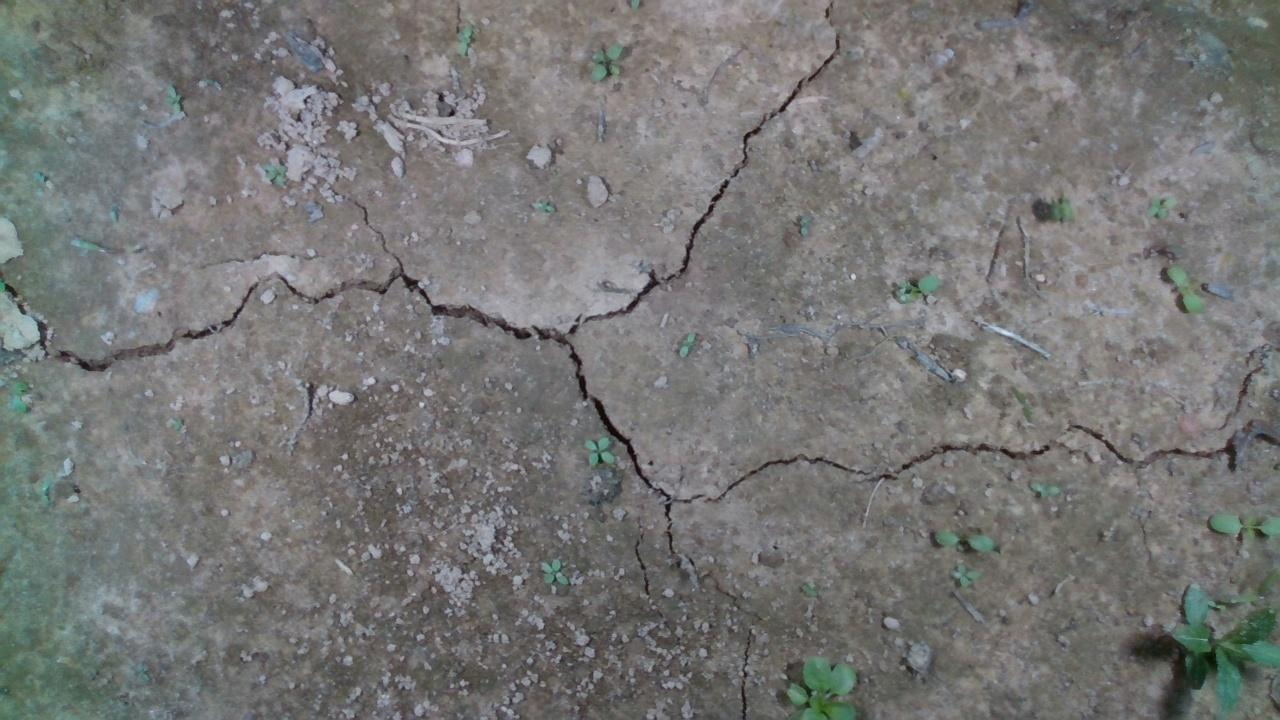weed: (884, 266, 956, 312), (579, 31, 629, 78), (1163, 265, 1204, 313), (1015, 470, 1062, 510), (529, 548, 581, 582), (662, 323, 698, 368), (1140, 181, 1174, 224), (932, 529, 996, 550), (572, 432, 611, 464), (947, 564, 983, 585), (261, 163, 289, 185)
